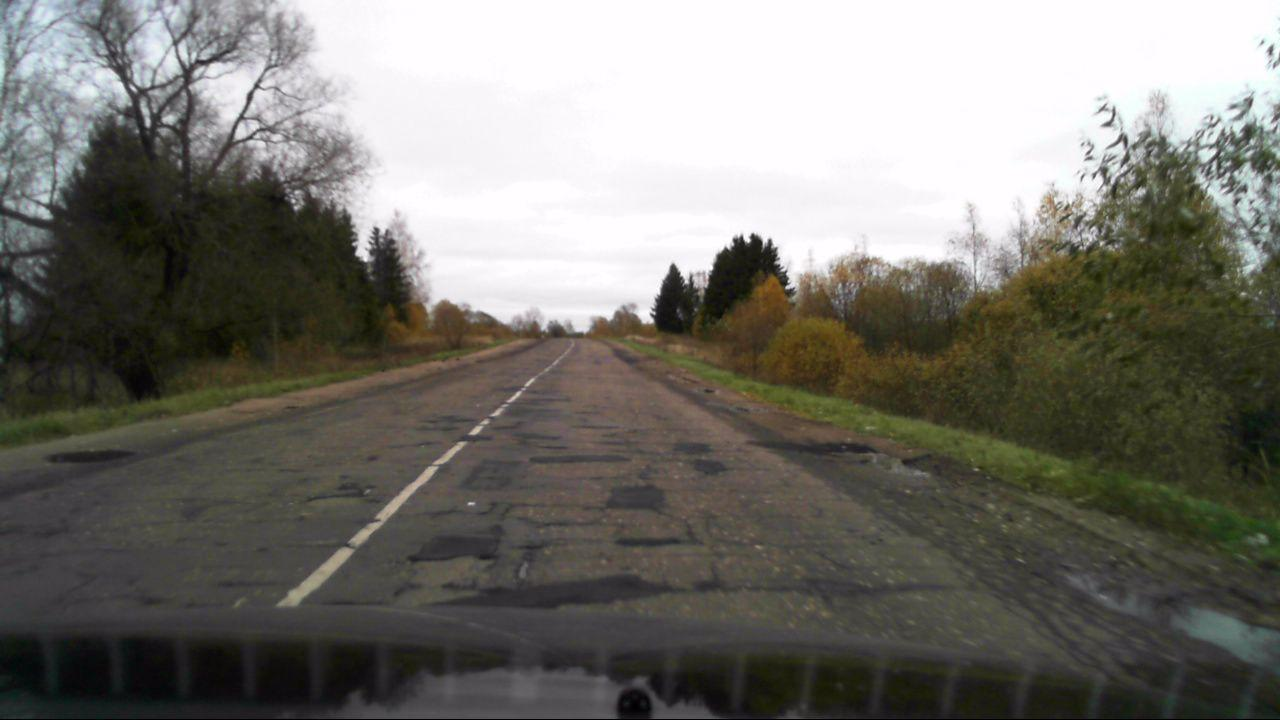pothole: (402, 550, 502, 590), (304, 492, 381, 509)
